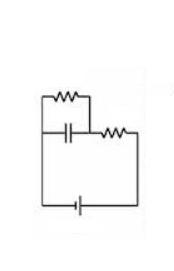resistor: (95, 117, 136, 147), (43, 79, 85, 106)
